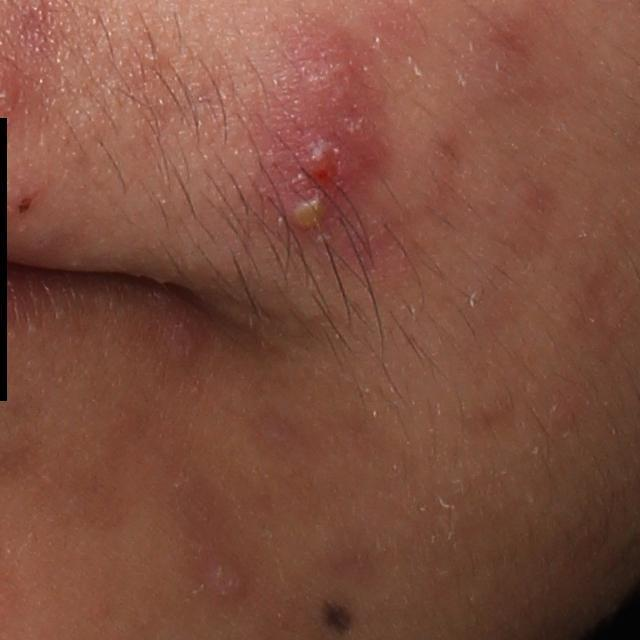papule: (295, 33, 376, 118), (287, 134, 358, 192), (327, 100, 389, 147), (200, 555, 253, 599)
pustule: (281, 190, 338, 239)
